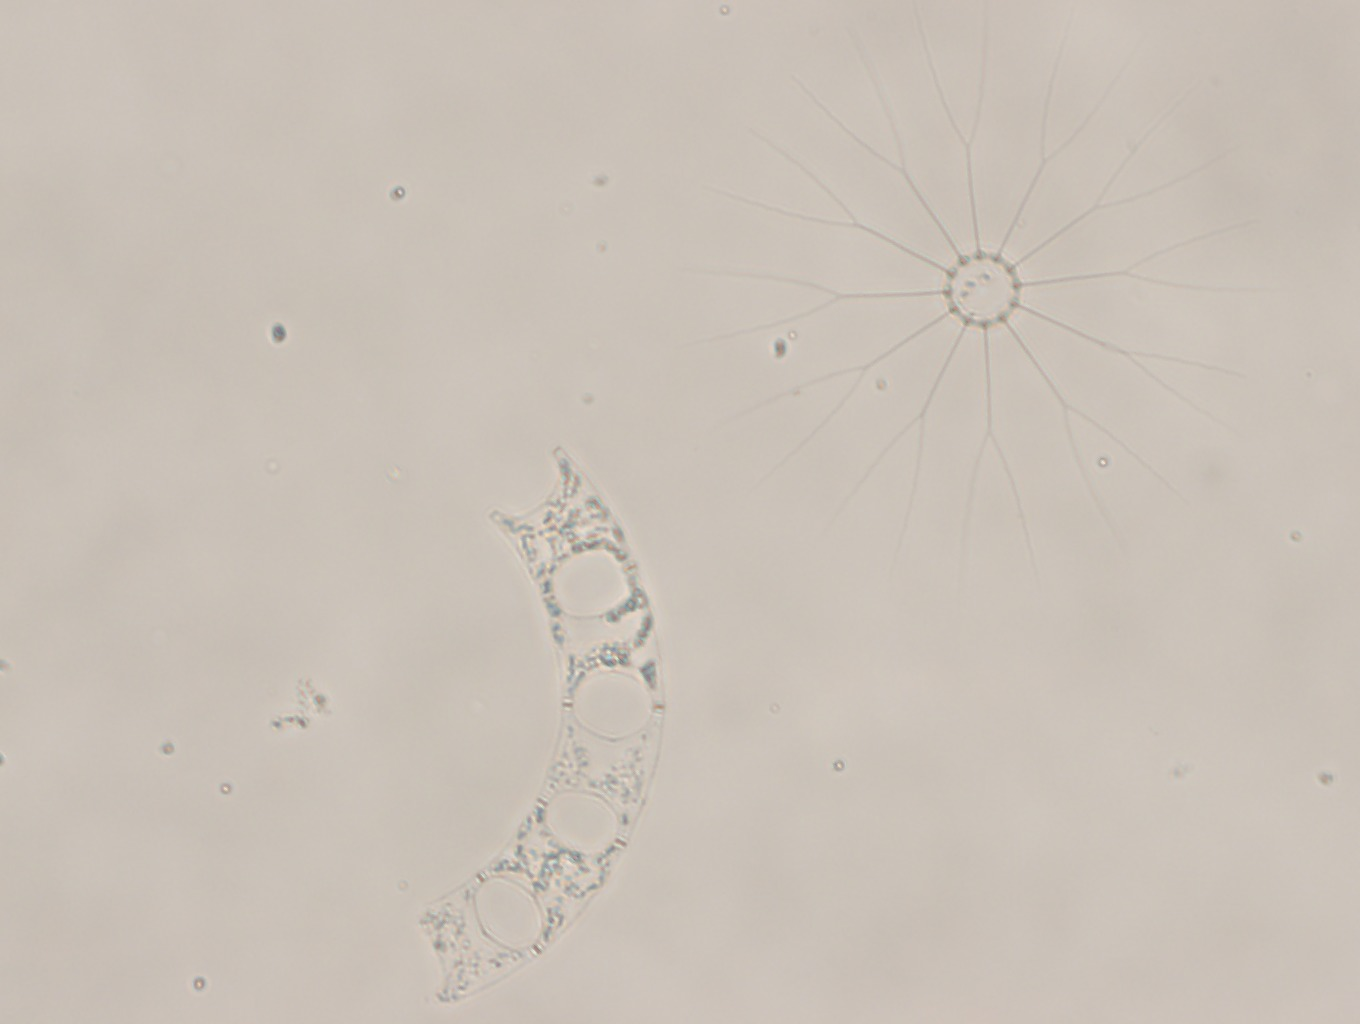bacteriastrum: (717, 6, 1268, 553)
eucampia: (385, 439, 674, 1008)
